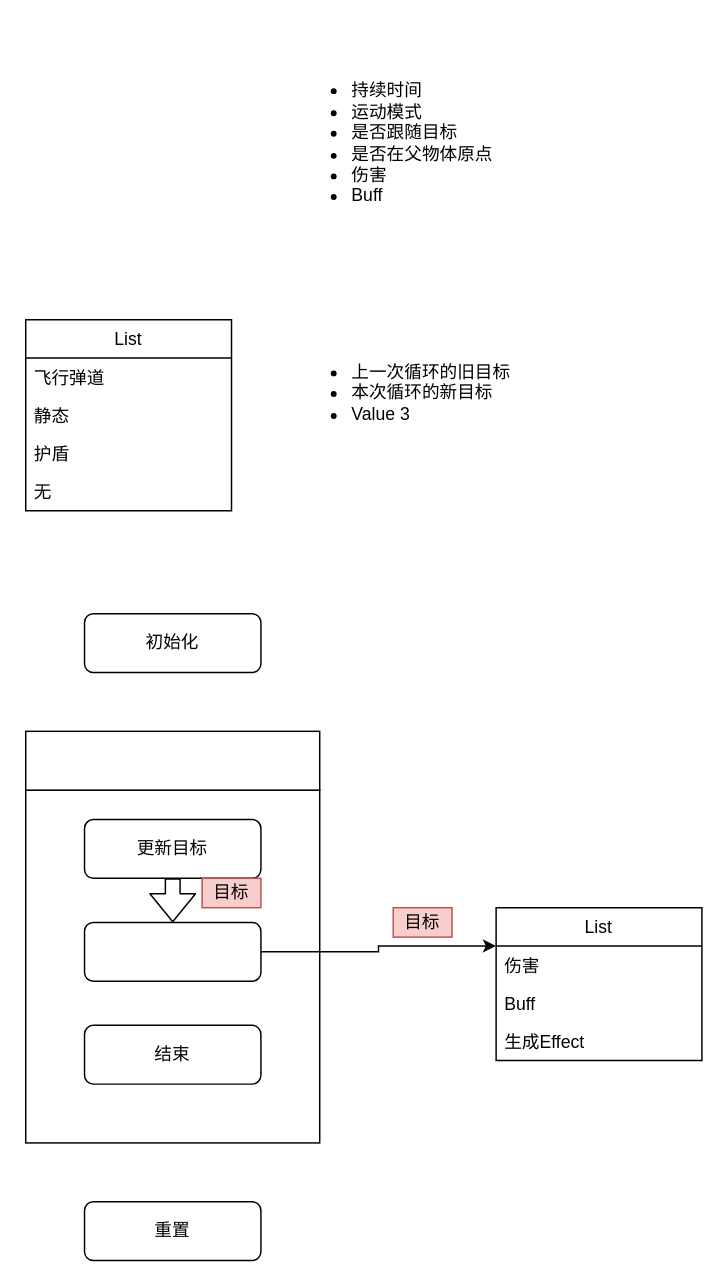
This 728x1286 diagram has some shape labels left out. Here are the shapes that lost their labels. From the top down, the centre of each, then its label:
At (x=172, y=760): "循环".
At (x=172, y=951): "对目标生效".
